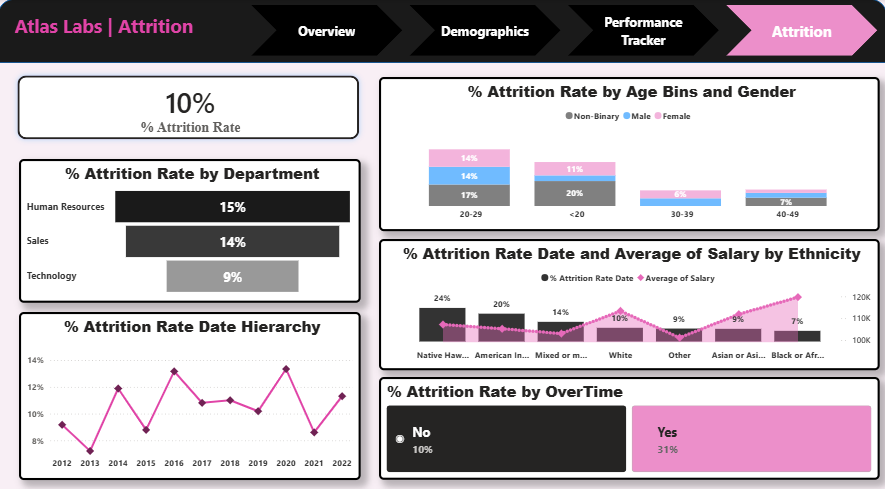

Layout of this report page (visuals, bound fields, positions):
{"tool":"powerbi","page":{"name":"Attrition","canvas":[1280,720],"ordinal":3},"visuals":[{"type":"shape","box":[0,0,1279.8,92.1],"z":0},{"type":"textbox","box":[18.8,8.7,276.8,73.9],"z":1000},{"type":"pageNavigator","box":[363.8,8.7,905.8,73.9],"z":2000},{"type":"cardVisual","fields":{"Data":["_Measure.% Attrition Rate"]},"box":[0,82.1,548.6,148.3],"z":3000},{"type":"funnel","fields":{"Y":["_Measure.% Attrition Rate"],"Category":["DimEmployee.Department"]},"box":[30.2,230.4,492.5,207.4],"z":4000},{"type":"lineChart","title":"% Attrition Rate Date   Hierarchy    ","fields":{"Y":["_Measure.% Attrition Rate Date"],"Category":["DimDate.Date.Variation.Date Hierarchy.Year","DimDate.Date.Variation.Date Hierarchy.Quarter","DimDate.Date.Variation.Date Hierarchy.Month","DimDate.Date.Variation.Date Hierarchy.Day"]},"box":[30.2,450.7,492.5,241.9],"z":5000},{"type":"lineStackedColumnComboChart","fields":{"Y":["_Measure.% Attrition Rate"],"Series":["DimEmployee.Gender"],"Category":["DimEmployee.Age Bins"]},"box":[548.6,112.3,721.4,221.8],"z":6000},{"type":"lineStackedColumnComboChart","fields":{"Y":["_Measure.% Attrition Rate Date"],"Category":["DimEmployee.Ethnicity"],"Y2":["Avg(DimEmployee.Salary)"]},"box":[548.6,345.6,721.4,188.6],"z":7000},{"type":"advancedSlicerVisual","fields":{"Values":["DimEmployee.OverTime"],"Label":["_Measure.% Attrition Rate"]},"box":[558.7,544.3,721.4,148.3],"z":8000}]}

Visuals, with their boxes in screenshot pixels (x1, y1, x2, y2), scaled from the page's 1280x720 canvas onto the 885x489 screenshot:
shape: box(0, 0, 884, 63)
textbox: box(13, 6, 204, 56)
pageNavigator: box(252, 6, 878, 56)
cardVisual - _Measure.% Attrition Rate: box(0, 56, 379, 156)
funnel - _Measure.% Attrition Rate x DimEmployee.Department: box(21, 156, 361, 297)
"% Attrition Rate Date   Hierarchy    " lineChart: box(21, 306, 361, 470)
lineStackedColumnComboChart - _Measure.% Attrition Rate x DimEmployee.Gender: box(379, 76, 878, 227)
lineStackedColumnComboChart - _Measure.% Attrition Rate Date x DimEmployee.Ethnicity: box(379, 235, 878, 363)
advancedSlicerVisual - DimEmployee.OverTime x _Measure.% Attrition Rate: box(386, 370, 884, 470)
